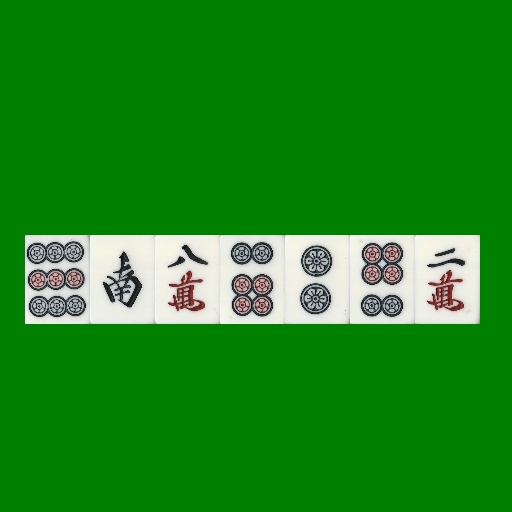2m: (415, 235, 480, 324)
2p: (285, 235, 350, 324)
6p: (220, 235, 285, 324), (350, 235, 415, 324)
8m: (155, 235, 220, 324)
9p: (25, 235, 90, 324)
south: (90, 235, 155, 324)
